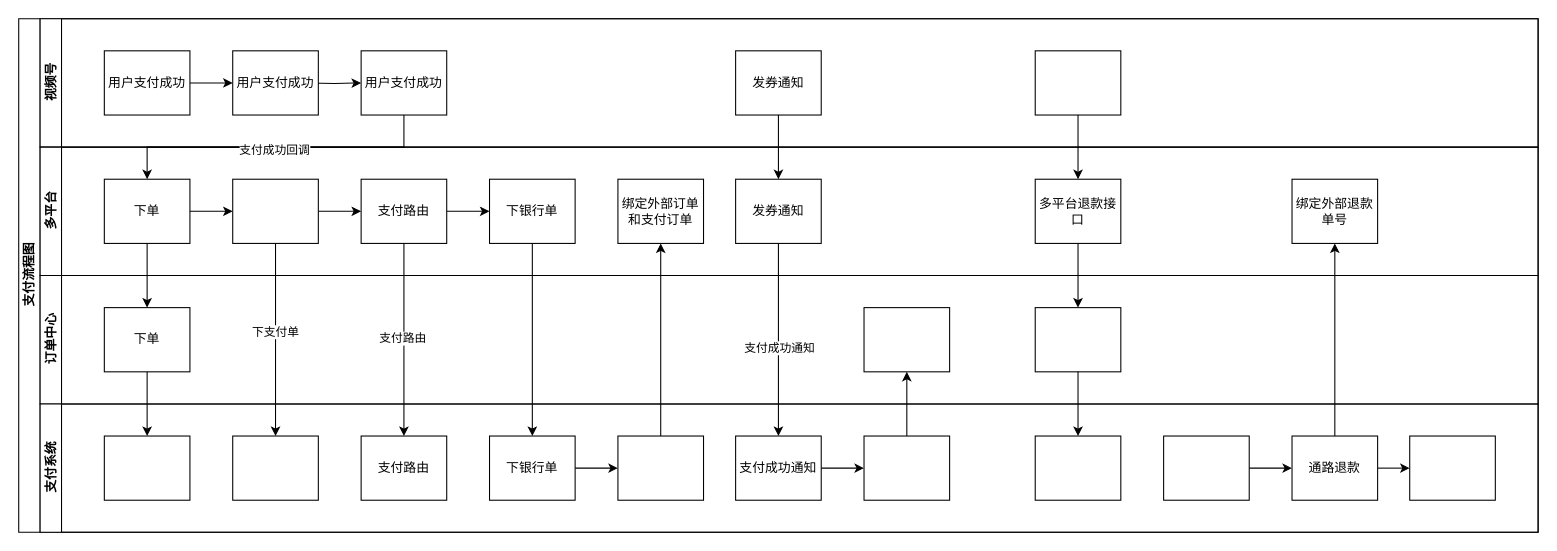
This 1557x551 diagram has some shape labels left out. Each missing label, with the centre of its shape:
"下支付订单" goes at (275,210).
"业务支付成功通知" goes at (906,339).
"业务退款" goes at (1077,339).
"创建平台订单" goes at (146,467).
"创建支付订单" goes at (275,467).
"支付成功通知业务线" goes at (906,467).
"请求通路" goes at (660,467).
"退款JOB" goes at (1206,467).
"退款成功回调" goes at (1452,467).
"退款成功通知" goes at (1077,82).
"退款接口" goes at (1077,467).
